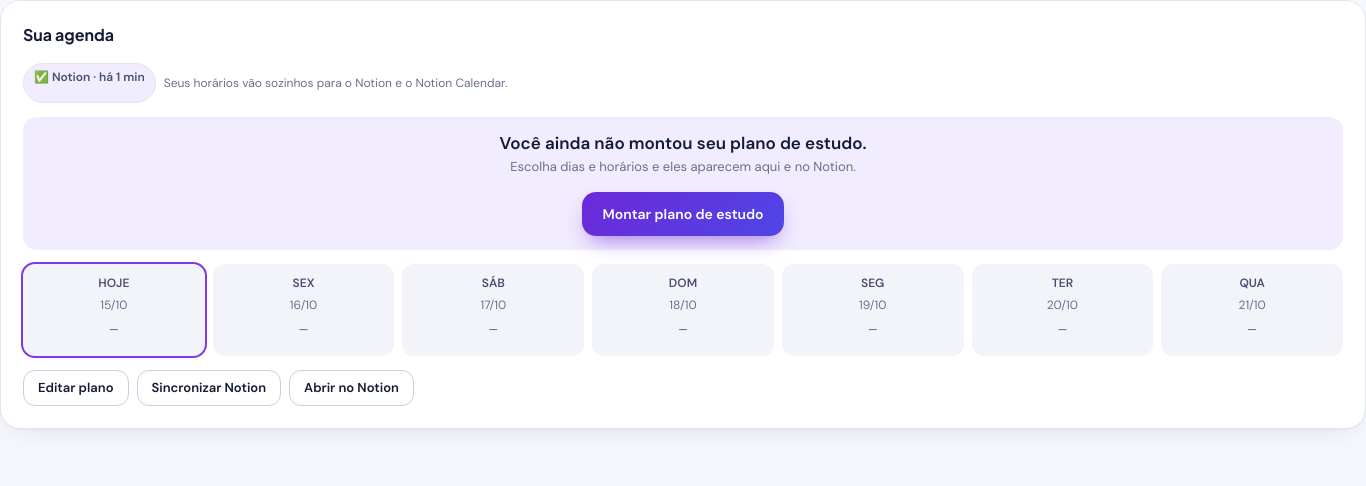
it: AgendaCard · antes de conectar › "Sincronizar Notion" mostra o resumo e atualiza o cartão
Click the button "Sincronizar Notion" at [209, 388], box [136,370,281,406]
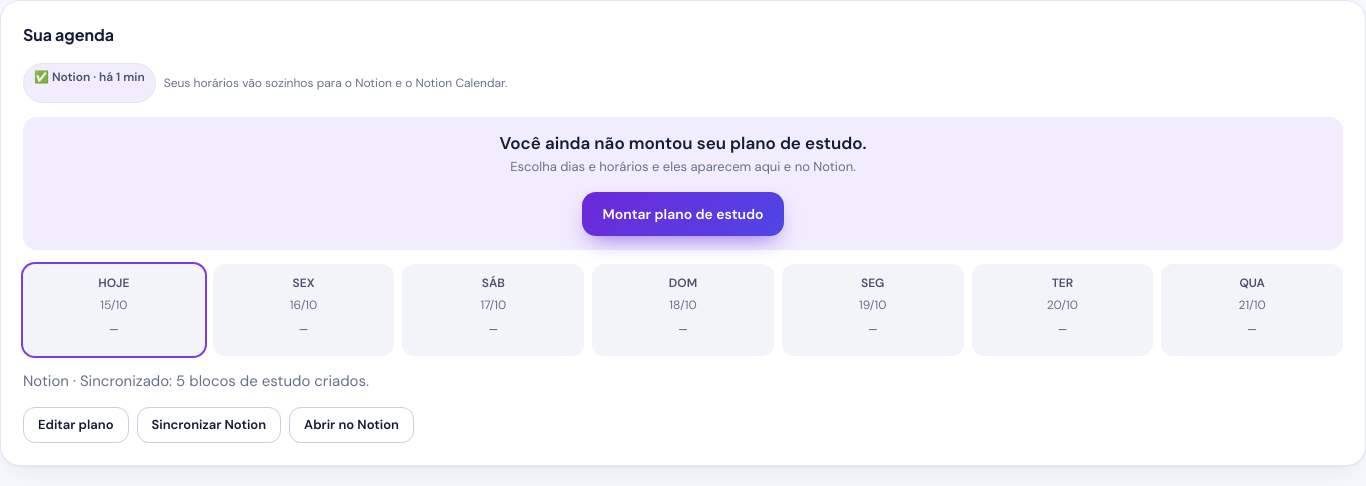
Check: the text "Notion · Sincronizado: 5 blocos de estudo criados." is shown, box [23,371,369,391]
